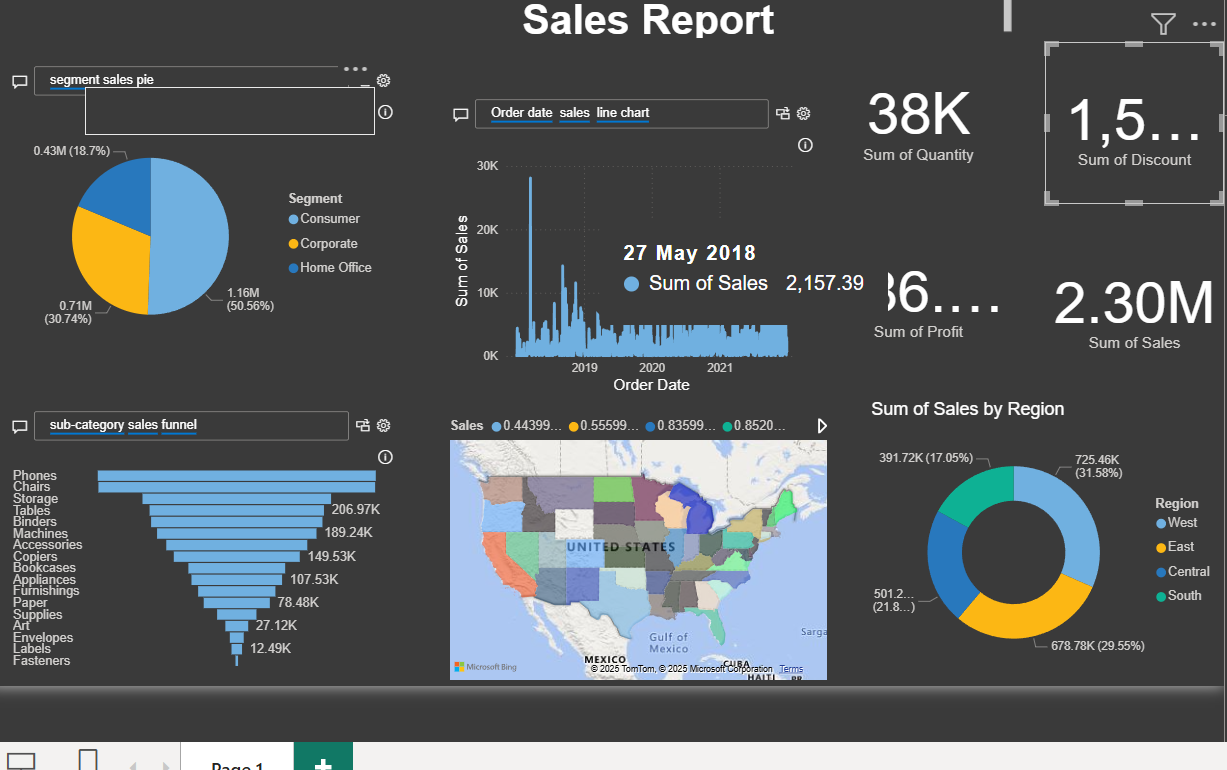

The page's visual inventory and layout, read from the dashboard file:
{"tool":"powerbi","page":{"name":"Page 1","canvas":[1280,720],"ordinal":0},"visuals":[{"type":"donutChart","fields":{"Category":["Orders.Region"],"Y":["Sum(Orders.Sales)"]},"box":[909,423.3,370.4,296.7],"z":0},{"type":"filledMap","fields":{"Category":["Orders.State"],"Series":["Orders.Sales"]},"box":[472.6,410.4,401.1,309.4],"z":1000},{"type":"qnaVisual","box":[15.5,52.9,408.9,335.8],"z":3000},{"type":"qnaVisual","box":[472.6,87.1,387.1,348.2],"z":4000},{"type":"card","fields":{"Values":["Sum(Orders.Sales)"]},"box":[1094.5,242.5,185,167.9],"z":5000},{"type":"card","fields":{"Values":["Sum(Orders.Profit)"]},"box":[859.7,242.5,206.8,146.1],"z":6000},{"type":"card","fields":{"Values":["Sum(Orders.Discount)"]},"box":[1094.5,52.9,185,167.9],"z":7000},{"type":"card","fields":{"Values":["Sum(Orders.Quantity)"]},"box":[859.7,42,206.8,178.8],"z":8000},{"type":"qnaVisual","box":[15.5,410.4,408.9,309.4],"z":9001},{"type":"textbox","box":[99.5,99.5,300.1,49.7],"z":9002},{"type":"textbox","box":[452.4,0,612.5,52.9],"z":9003}]}

Visuals, with their boxes on the page's 1280x720 design canvas (x1, y1, x2, y2). These are canvas units, not pixel positions in the 1227x770 screenshot, which may show the page scaled, cropped or inside an application window:
donutChart - Orders.Region x Sum(Orders.Sales): [x1=909, y1=423, x2=1279, y2=720]
filledMap - Orders.State x Orders.Sales: [x1=473, y1=410, x2=874, y2=720]
qnaVisual: [x1=16, y1=53, x2=424, y2=389]
qnaVisual: [x1=473, y1=87, x2=860, y2=435]
card - Sum(Orders.Sales): [x1=1094, y1=242, x2=1280, y2=410]
card - Sum(Orders.Profit): [x1=860, y1=242, x2=1066, y2=389]
card - Sum(Orders.Discount): [x1=1094, y1=53, x2=1280, y2=221]
card - Sum(Orders.Quantity): [x1=860, y1=42, x2=1066, y2=221]
qnaVisual: [x1=16, y1=410, x2=424, y2=720]
textbox: [x1=100, y1=100, x2=400, y2=149]
textbox: [x1=452, y1=0, x2=1065, y2=53]
